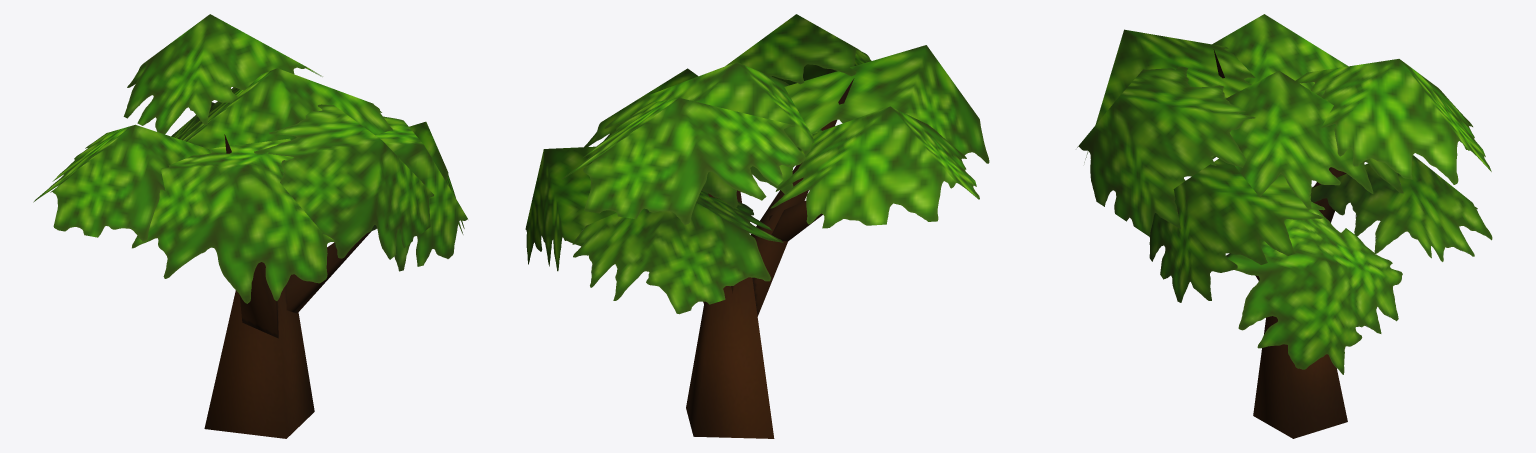
Rendered from tree1.DAE.
3 renders of one model, left to right at view 1: azimuth 30°, elevation 25°; view 2: azimuth 150°, elevation 25°; view 3: azimuth 270°, elevation 25°, orthographic. The views are drawn at different scales.
Parts seen in each view (by area): view 1: tree1; view 2: tree1; view 3: tree1.
Boxes of the visible parts, x1,y1,x2,y2 form: tree1: [33, 14, 467, 438]; tree1: [525, 14, 989, 438]; tree1: [1077, 14, 1492, 438].
Size of the model in its own units: 294 by 266 by 224.
